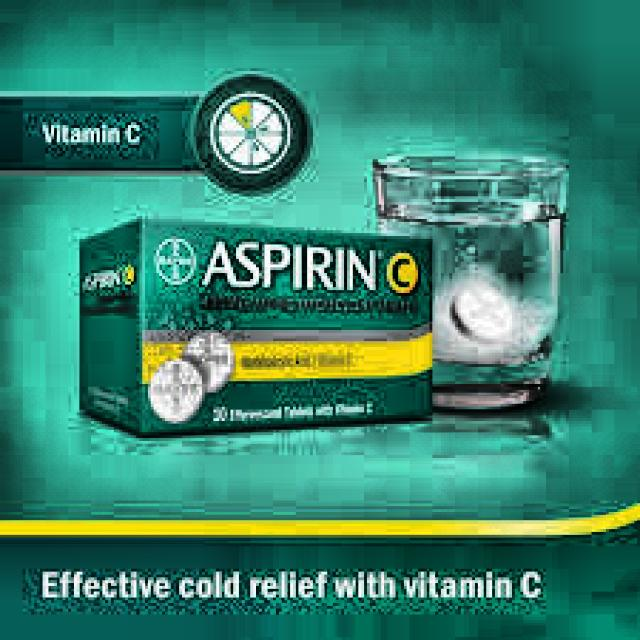Aspirin: (143, 218, 434, 429)
